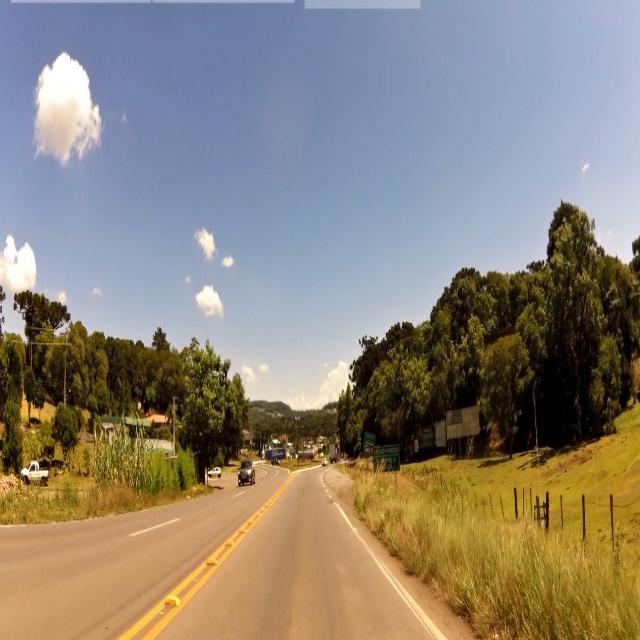I-4: (374, 443, 398, 470)
